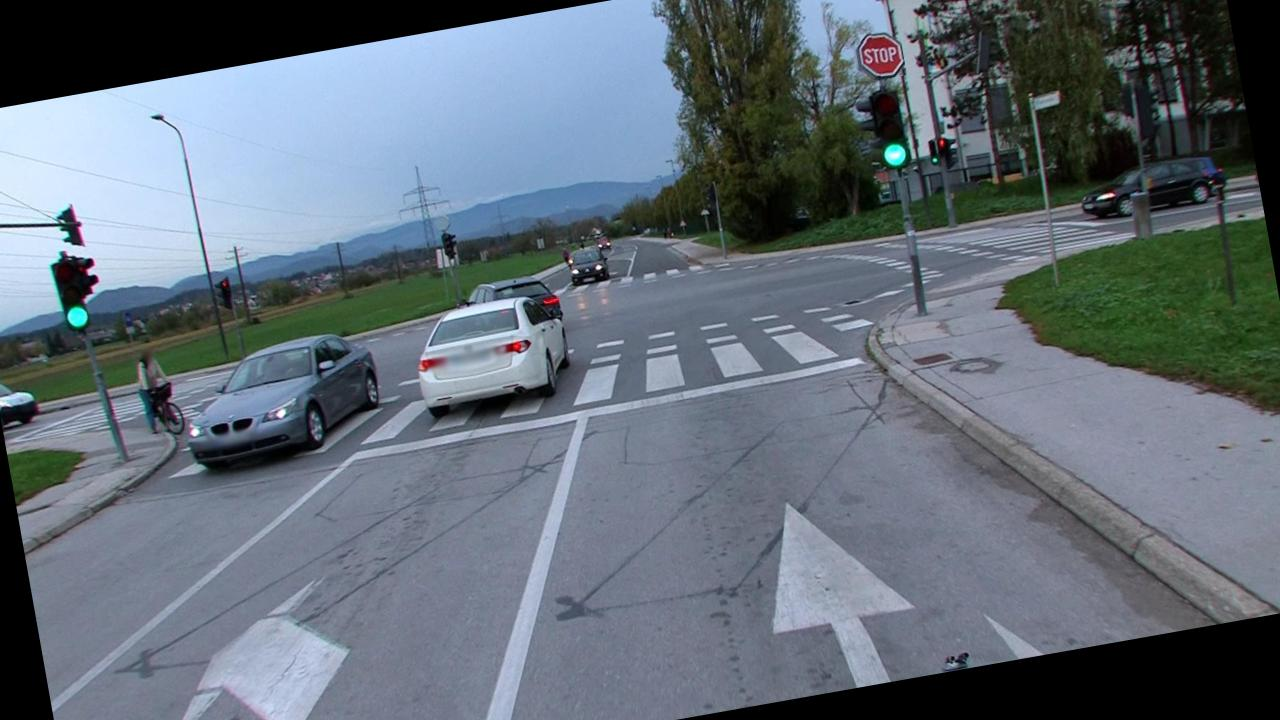Rectangle: (1030, 90, 1062, 111)
Stop: (852, 24, 906, 82)
